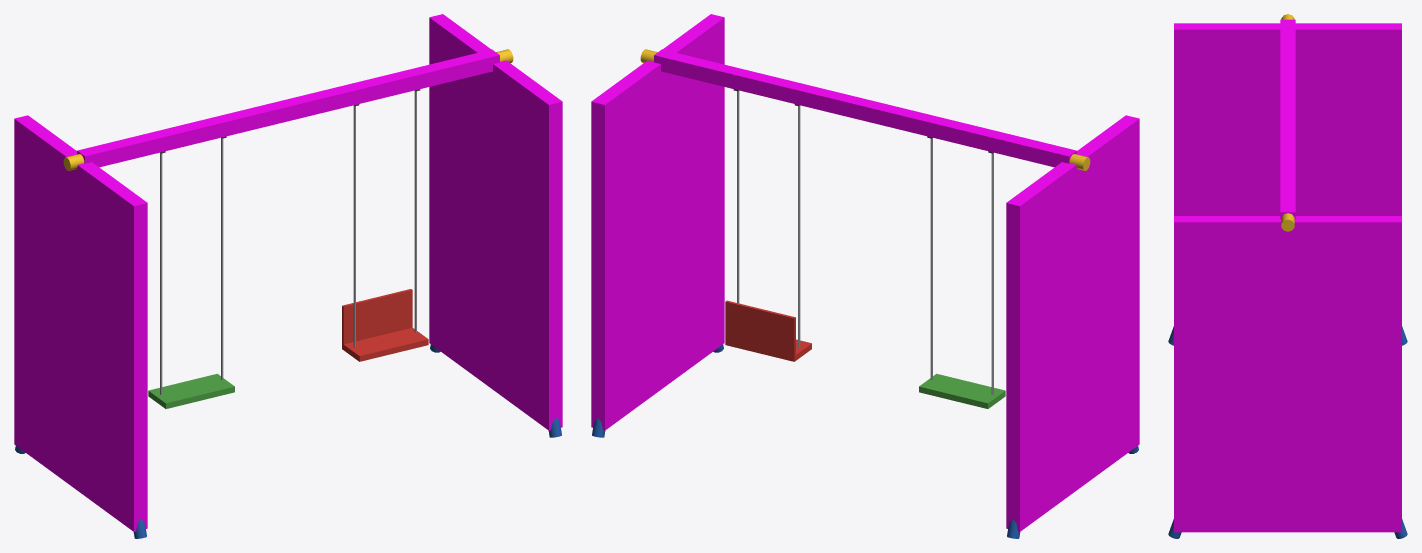
The model's file is EN_Yard_Swing.fbx.
3 views of the same model, side by side, from view 1: azimuth 30°, elevation 25°; view 2: azimuth 150°, elevation 25°; view 3: azimuth 270°, elevation 25° (orthographic). The views are drawn at different scales.
Visible parts, largest first — view 1: COL_Frame, EN_Yard_Swing_Mesh; view 2: COL_Frame, EN_Yard_Swing_Mesh; view 3: COL_Frame, EN_Yard_Swing_Mesh.
Part boxes in pixels (bbox=[...]): COL_Frame: bbox=[14, 14, 562, 531]; EN_Yard_Swing_Mesh: bbox=[15, 49, 561, 538]; COL_Frame: bbox=[591, 14, 1139, 531]; EN_Yard_Swing_Mesh: bbox=[592, 49, 1138, 538]; COL_Frame: bbox=[1174, 19, 1401, 532]; EN_Yard_Swing_Mesh: bbox=[1168, 14, 1407, 538].
Size of the model in its own units: 3.2 by 2.36 by 1.58.
